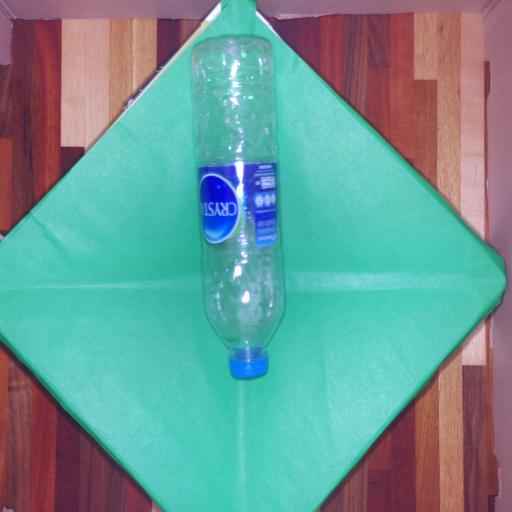bottle: (188, 29, 294, 400)
